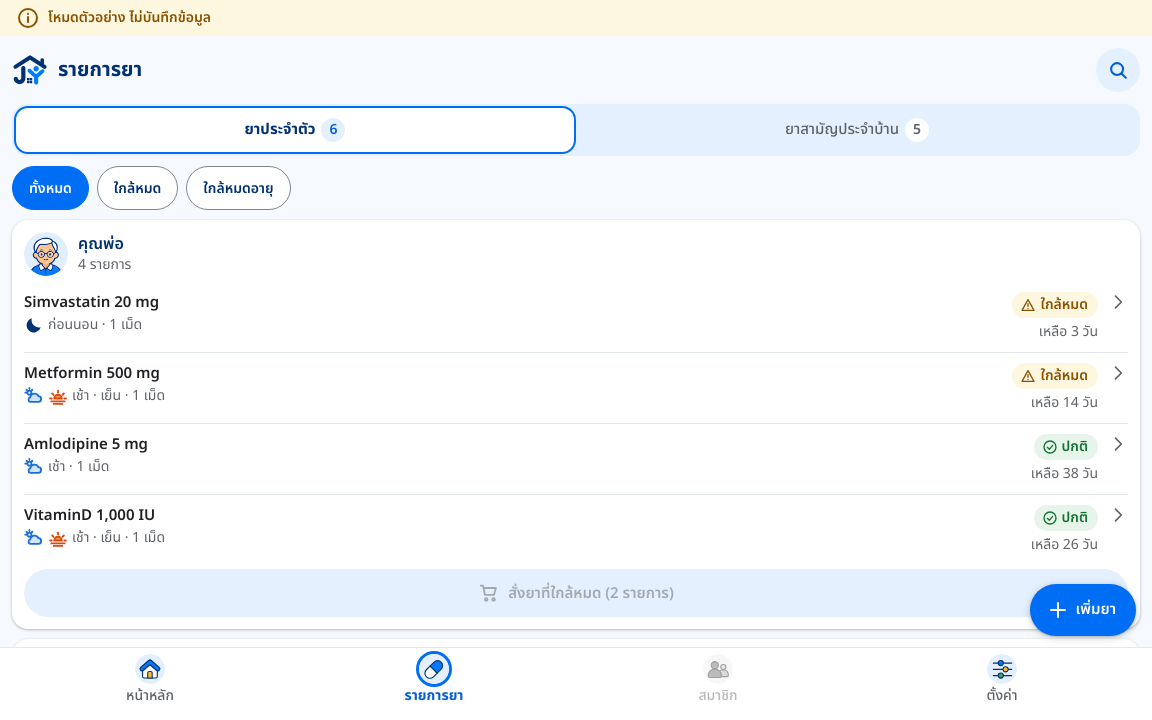
Test: search and filter › search opens from the button, finds without case, closing clears it
This screenshot has width=1152, height=720.
Click the button named "ค้นหายา" at point(1118, 70), box [1096, 48, 1140, 92]
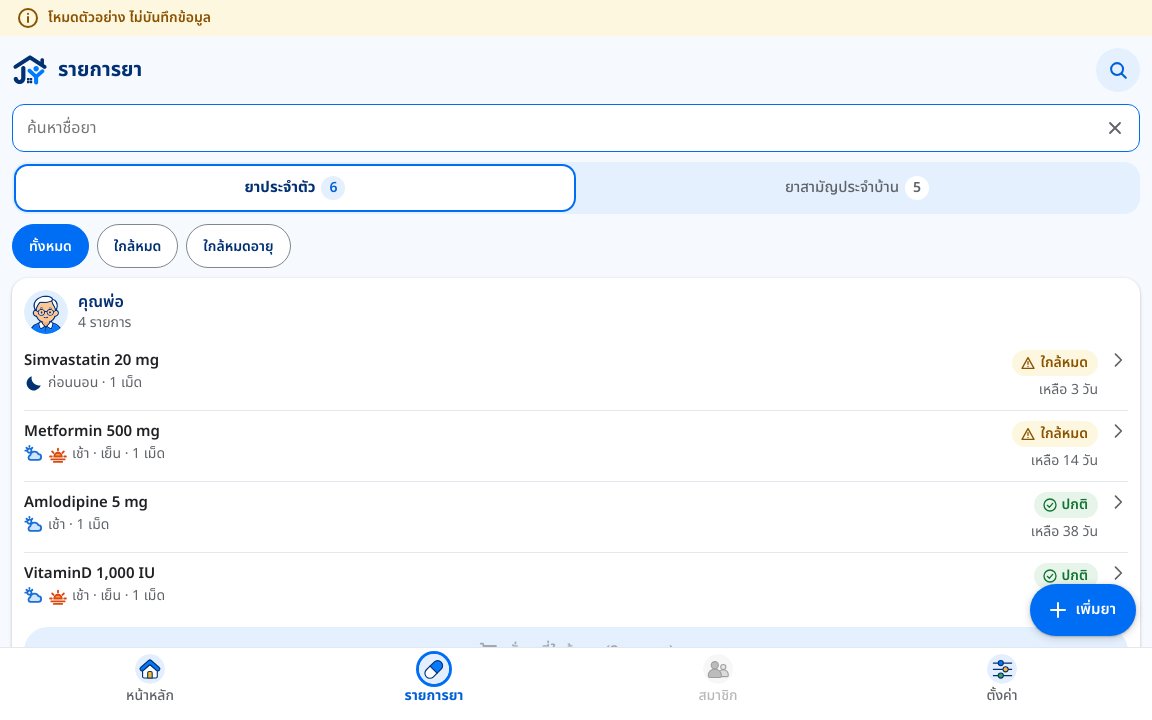
Type "SIMVA" into the search field with placeholder "ค้นหาชื่อยา" at point(560, 128), box [27, 106, 1093, 150]
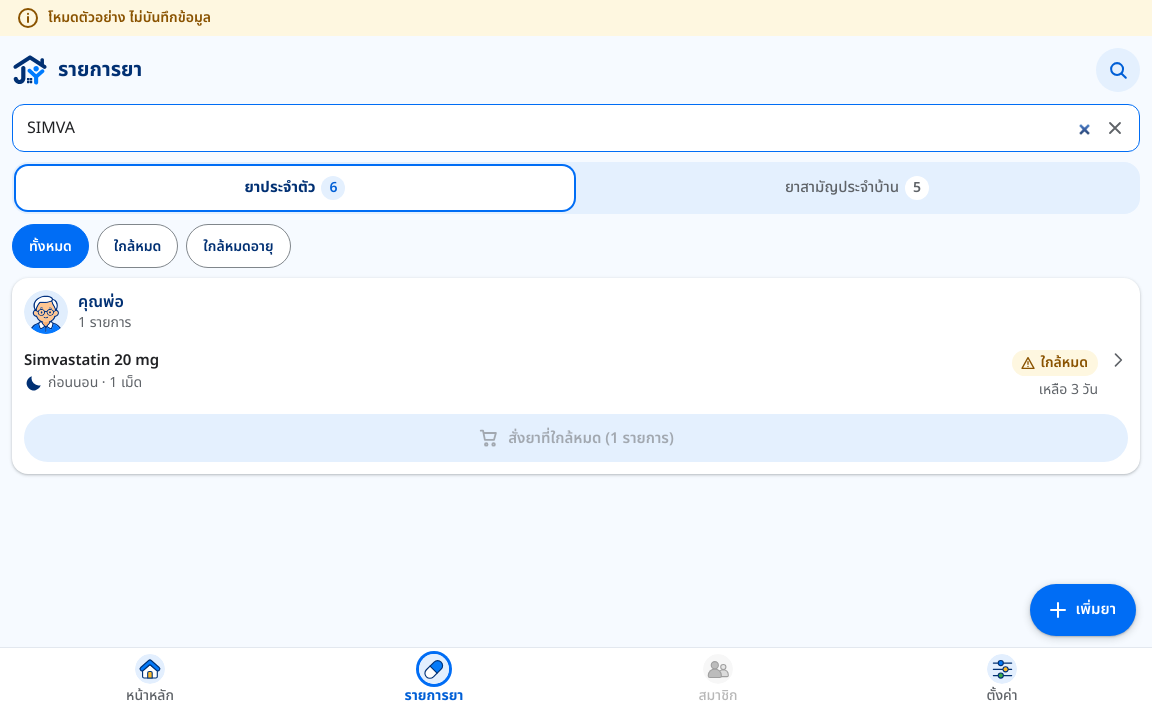
Expected: the text "Simvastatin 20 mg" is shown, [24, 349, 159, 372]
Expected: the text "1 รายการ" is shown, [78, 313, 131, 333]
Click the button named "ปิดการค้นหา" at point(1115, 128), box [1093, 106, 1137, 150]
(page scrolled)
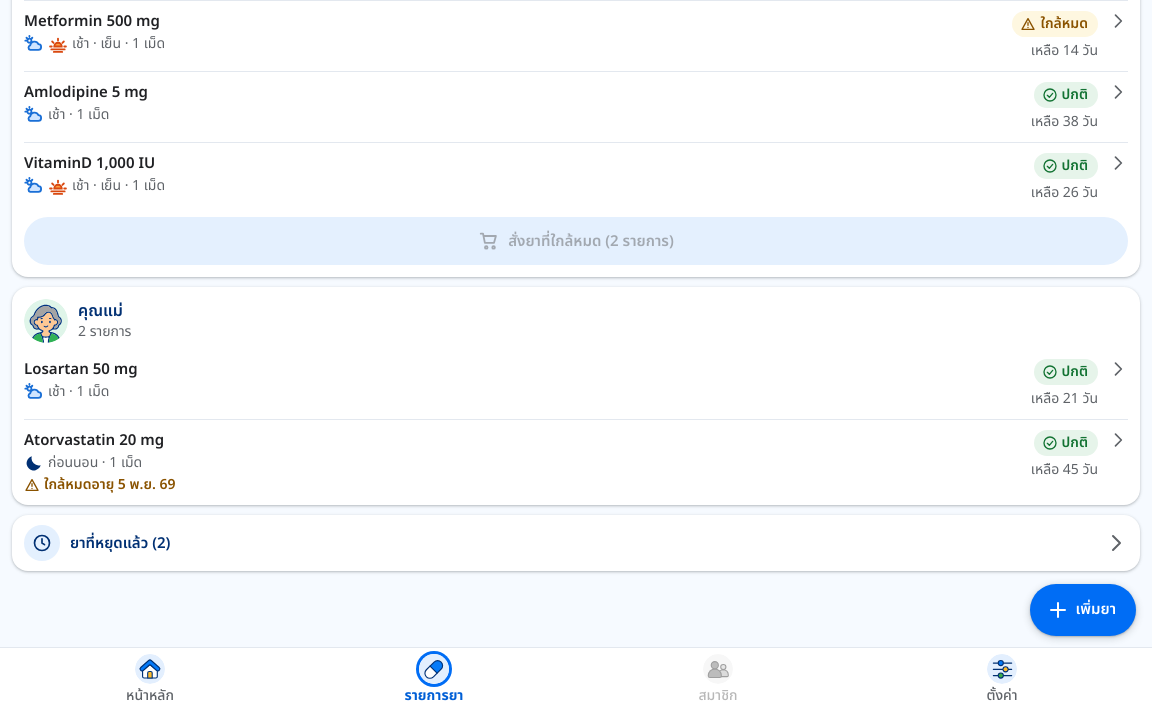
Expected: the search field with placeholder "ค้นหาชื่อยา" is gone
Expected: the text "Losartan 50 mg" is shown, [24, 358, 138, 381]
